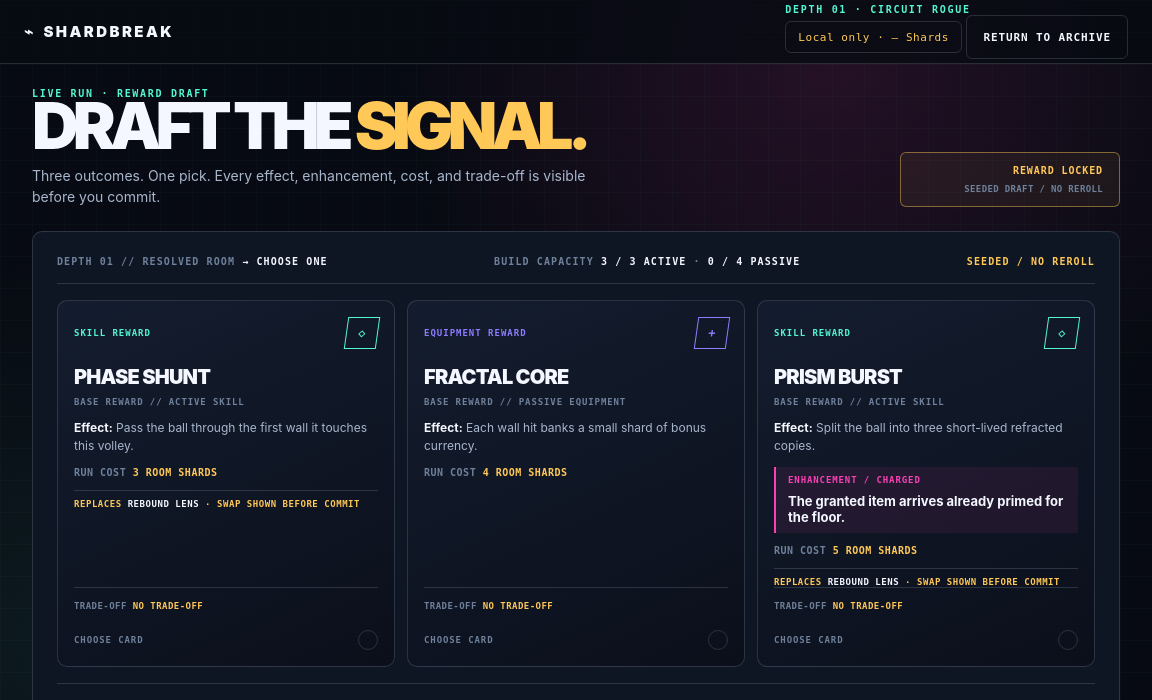
Test: RewardsScreen › announces the replacement in the confirm readout when the staged card displaces
This screenshot has width=1152, height=700.
Click the radio button with aria-label "skill // Phase Shunt" at coordinates (90, 333), box [57,300,395,667]
(page scrolled)
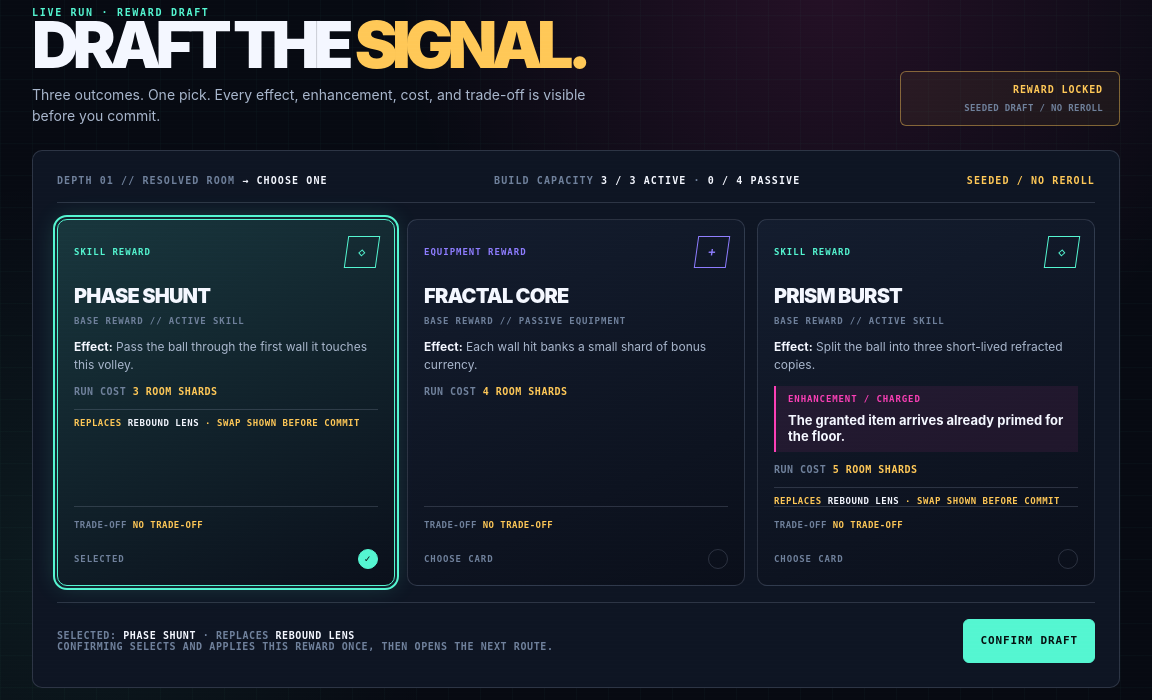
Expected: the text "replaces" is shown, [203,630,276,641]
Expected: the text "Rebound Lens" next to "· replaces" is shown, [276,630,355,641]
